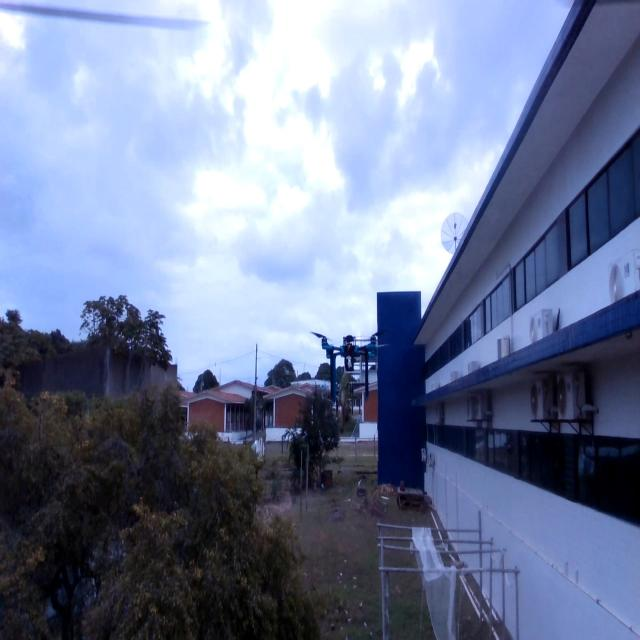-uav-: (306, 318, 378, 406)
